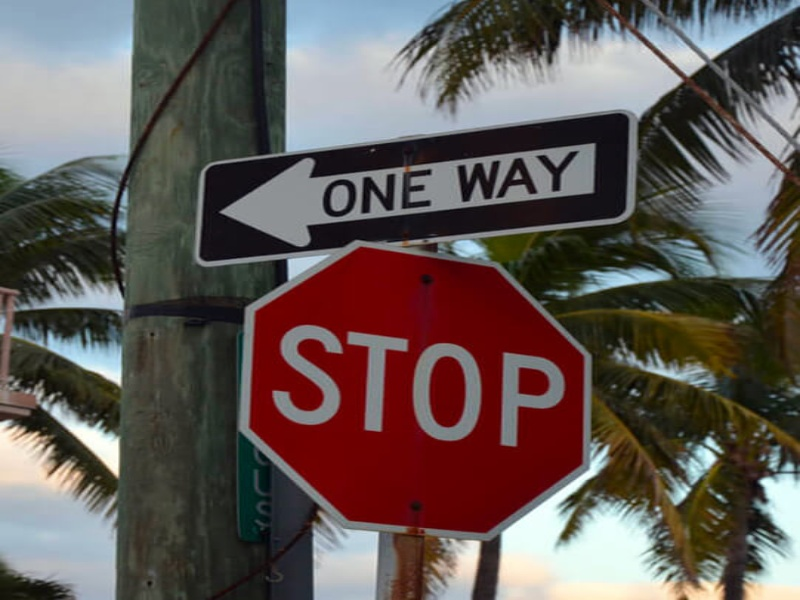stopsign: (265, 208, 558, 501)
